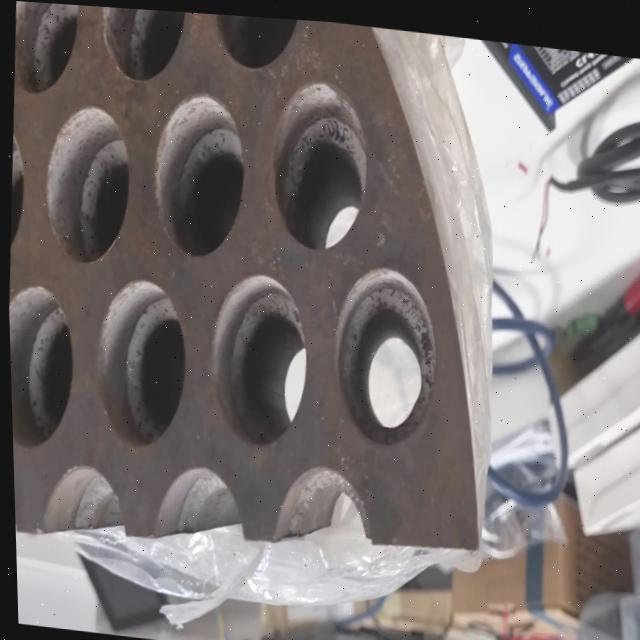Hole: (328, 258, 441, 451), (201, 265, 312, 450), (266, 73, 373, 255), (88, 273, 190, 452), (147, 86, 250, 261), (39, 99, 135, 268), (7, 282, 76, 454), (99, 5, 190, 88), (11, 1, 82, 102)
